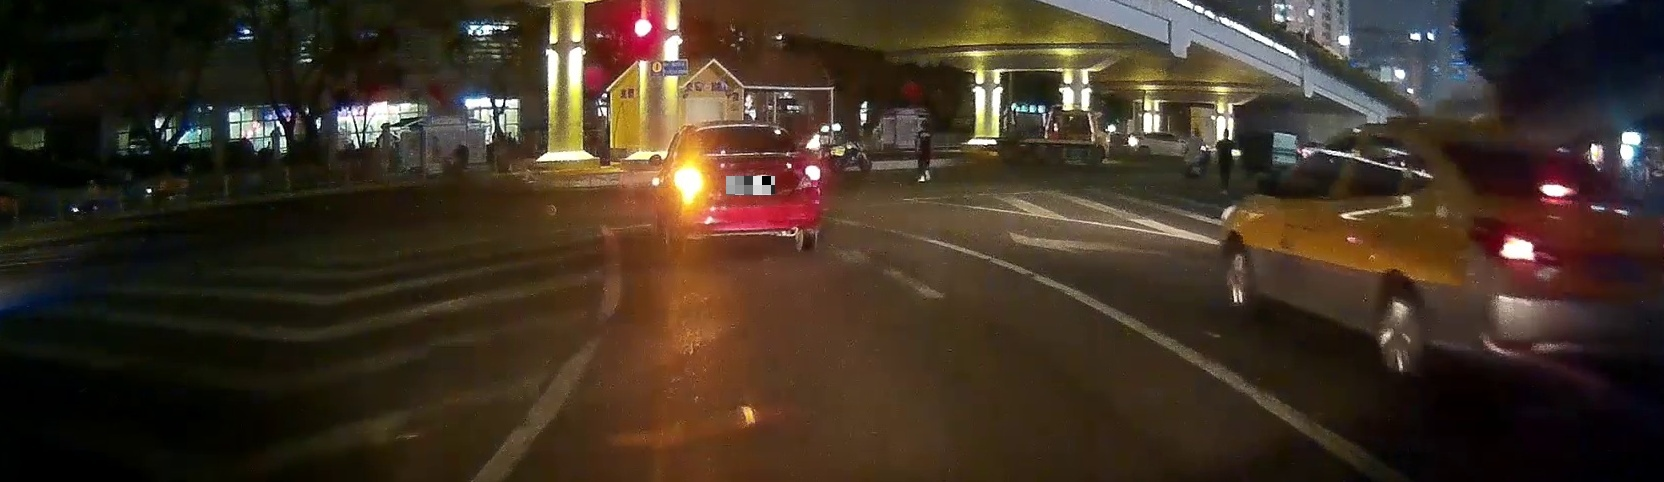L_light: (673, 168, 707, 192)
R_light: (794, 163, 821, 189)
T_light: (727, 123, 753, 130)
night-left: (665, 122, 822, 252)
plate_1: (726, 176, 775, 195)
